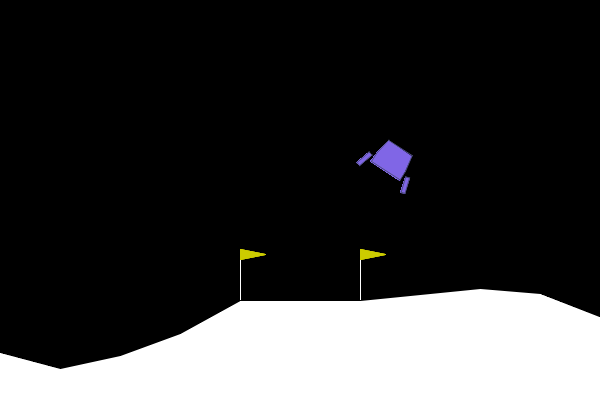lander: (354, 130, 426, 196)
